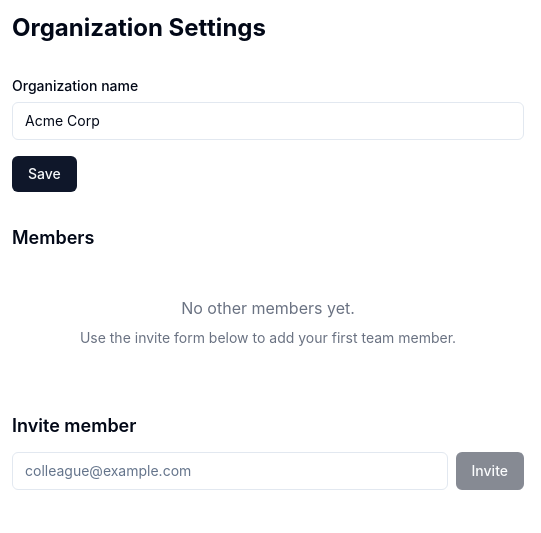
Test: OrgSettingsPage › shows error alert when invite API fails
Type "fail@example.com" into the field with placeholder "colleague@example.com" at (230, 471), box x1=12 y1=452 x2=448 y2=490
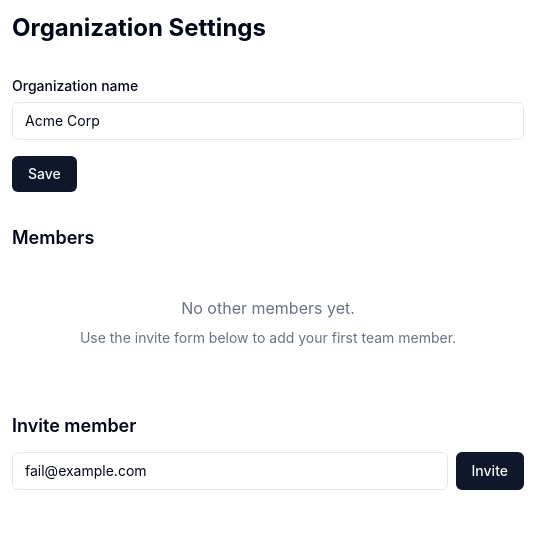
Submit the form "Invite", box x1=12 y1=452 x2=524 y2=490
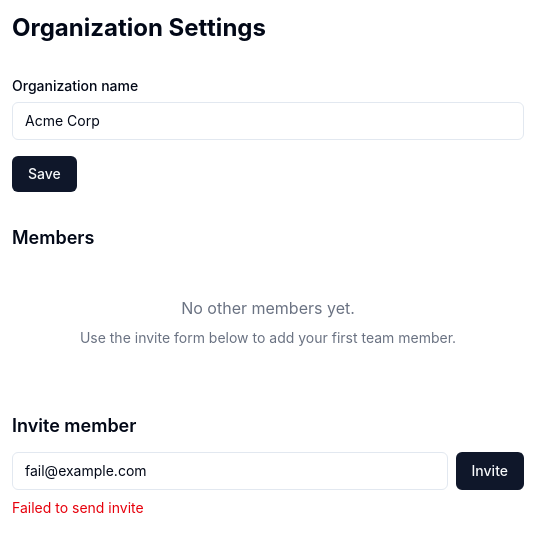
Check: the message "Failed to send invite" is shown, box x1=12 y1=499 x2=144 y2=516
